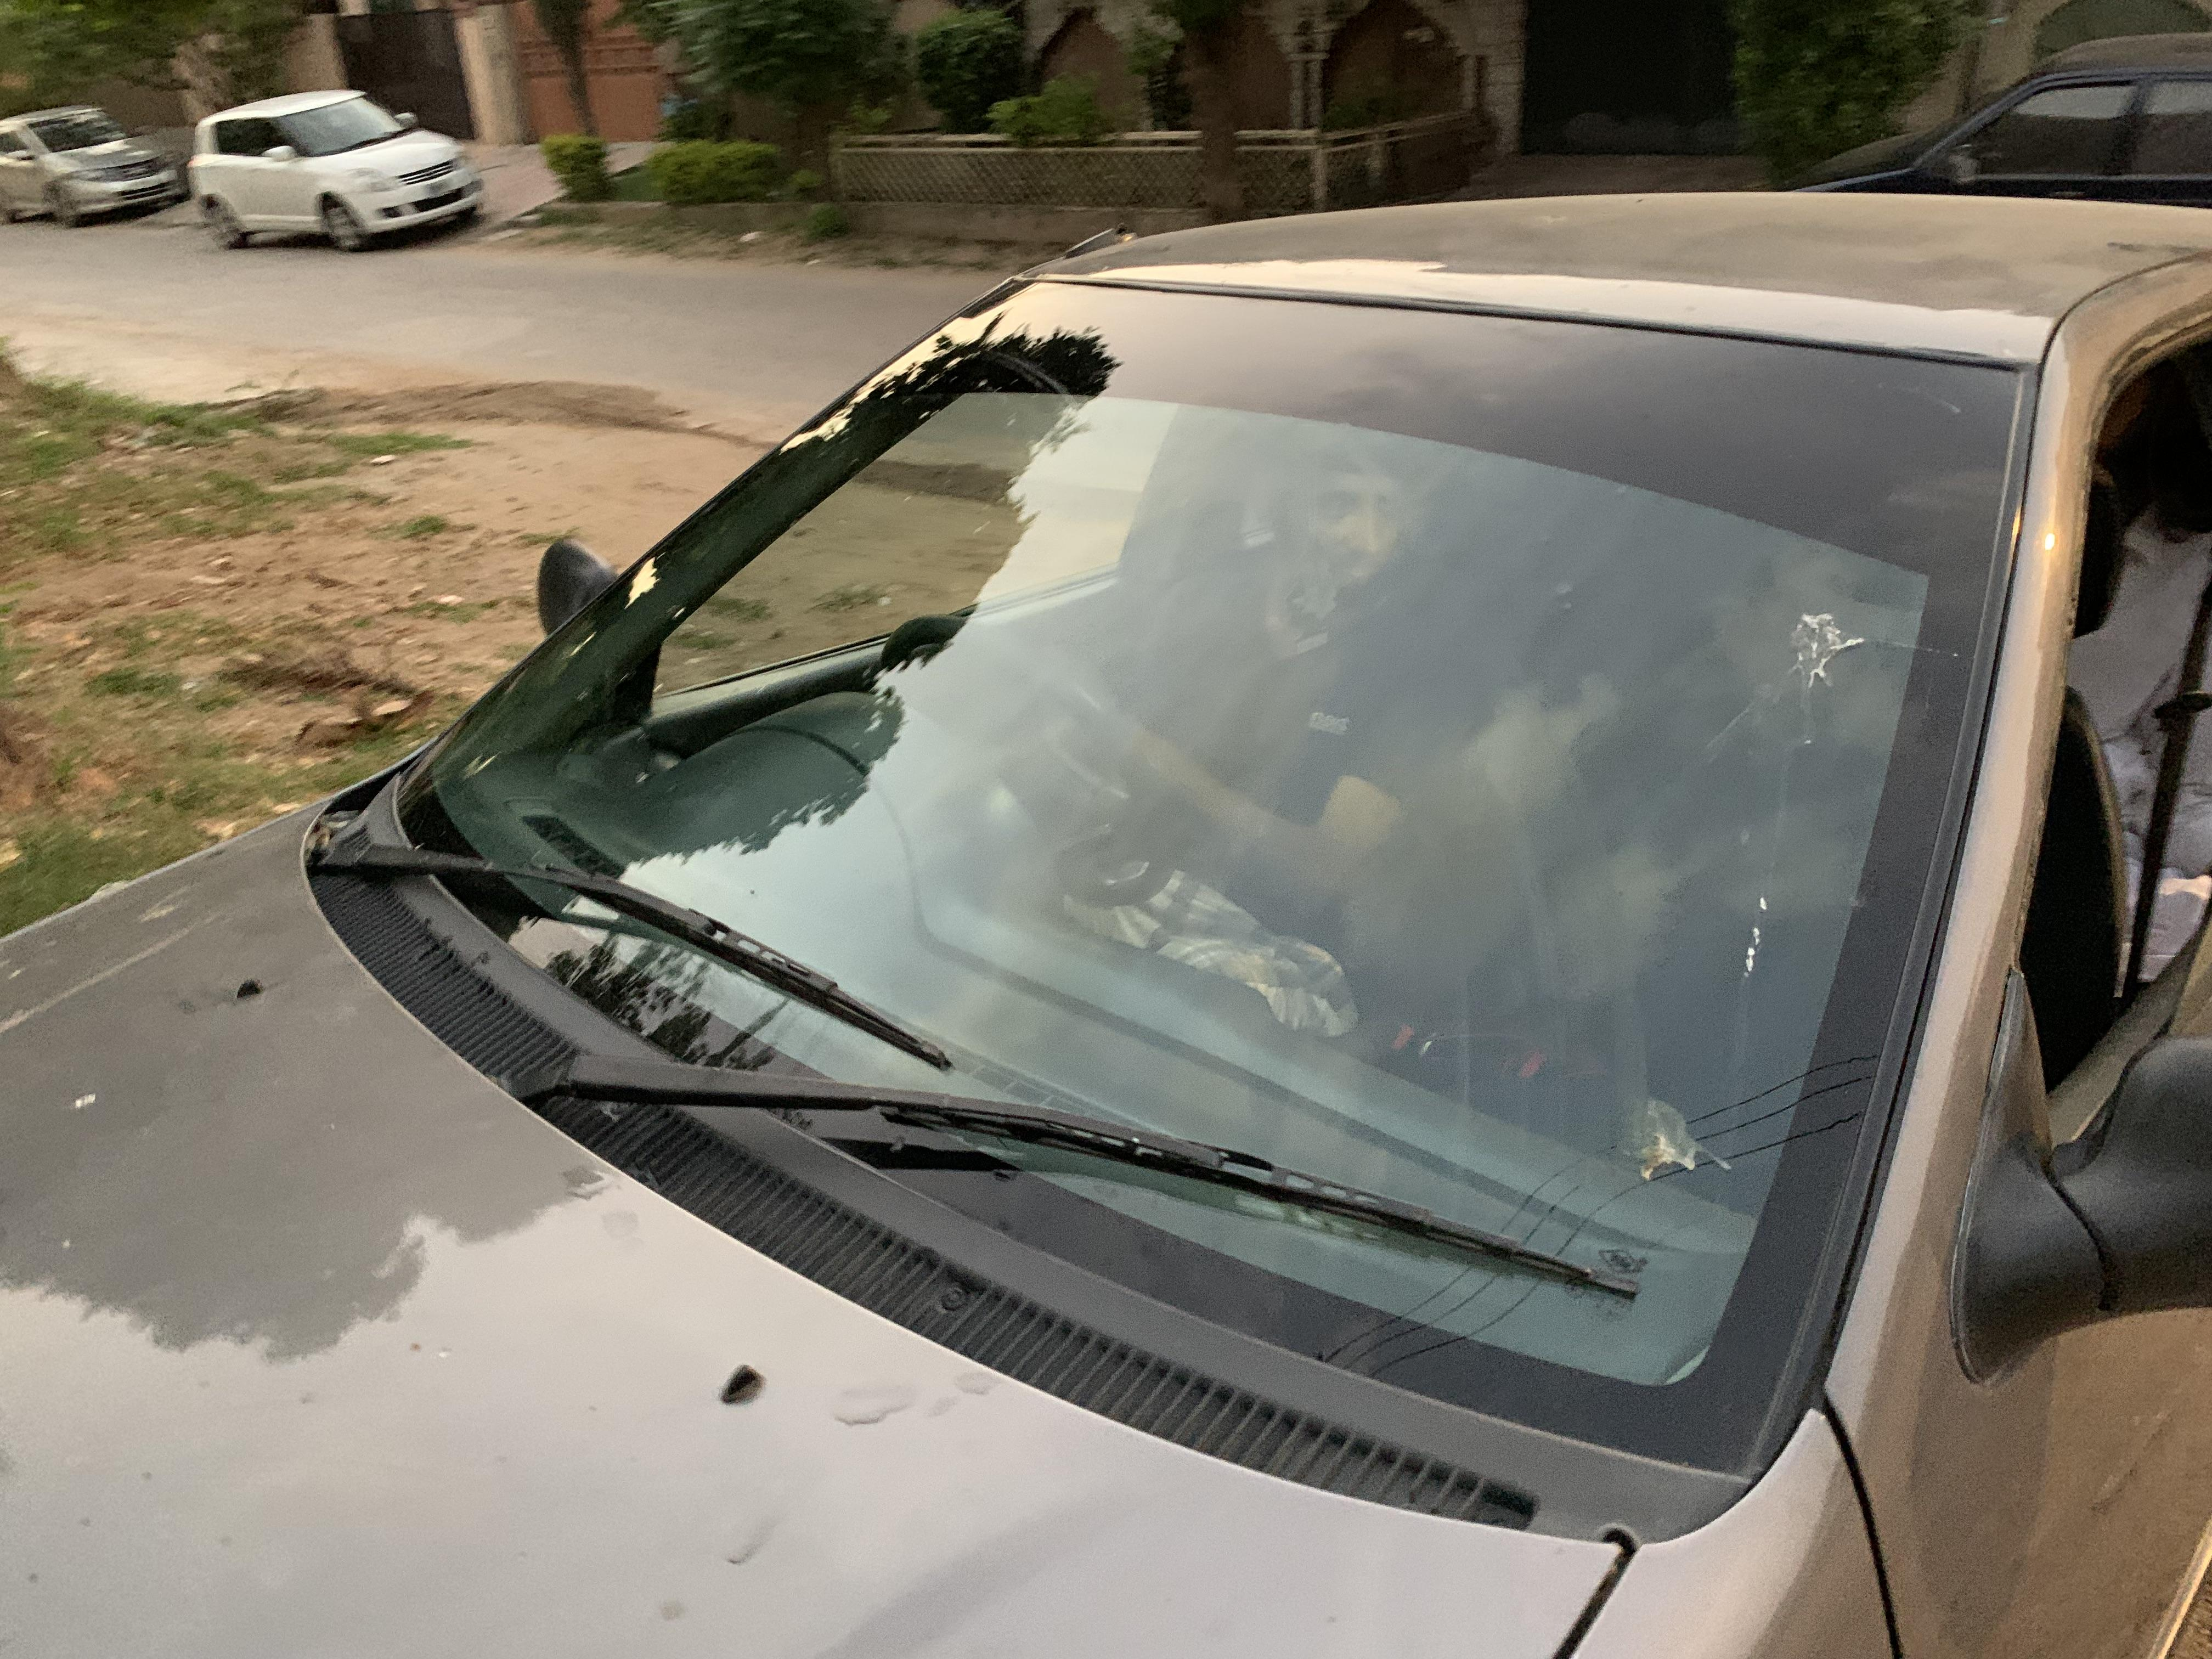windshield: (237, 253, 2085, 1581)
